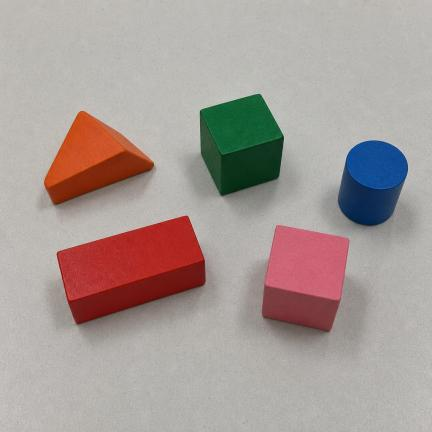BuildingBlocks: (57, 216, 205, 323), (45, 111, 153, 203), (262, 226, 349, 330), (200, 95, 283, 194), (338, 141, 407, 225)
